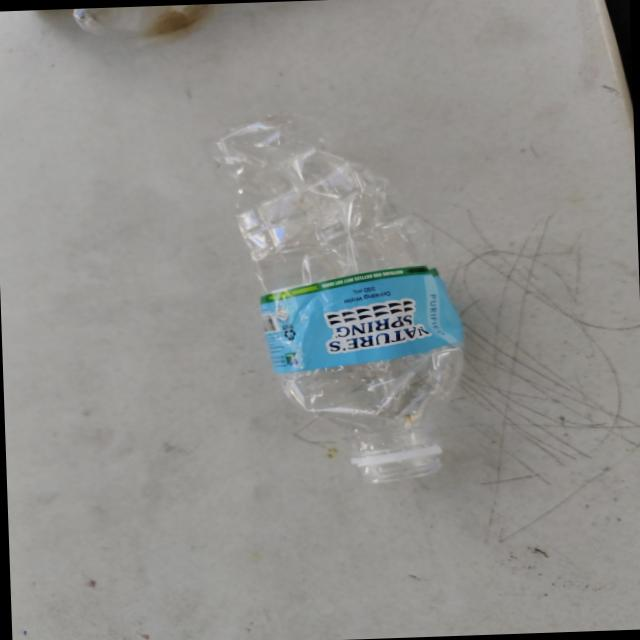Bottle: (215, 116, 463, 483)
